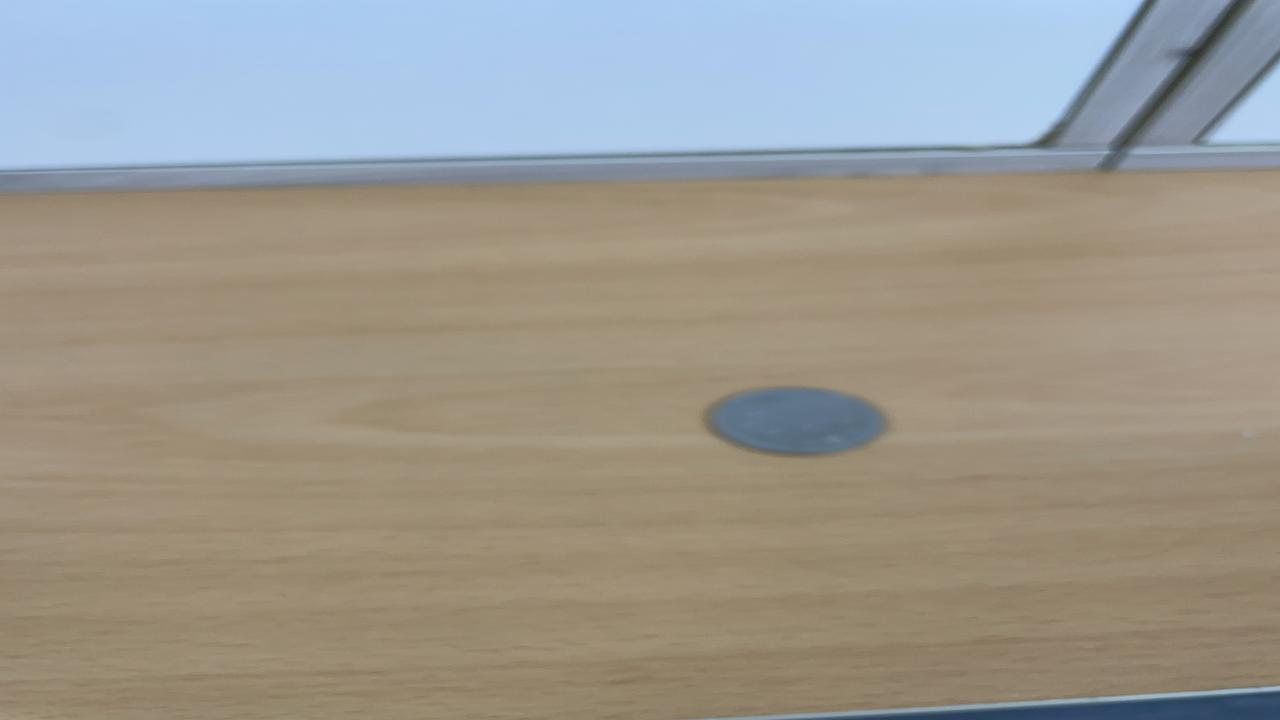coin: (703, 384, 893, 456)
